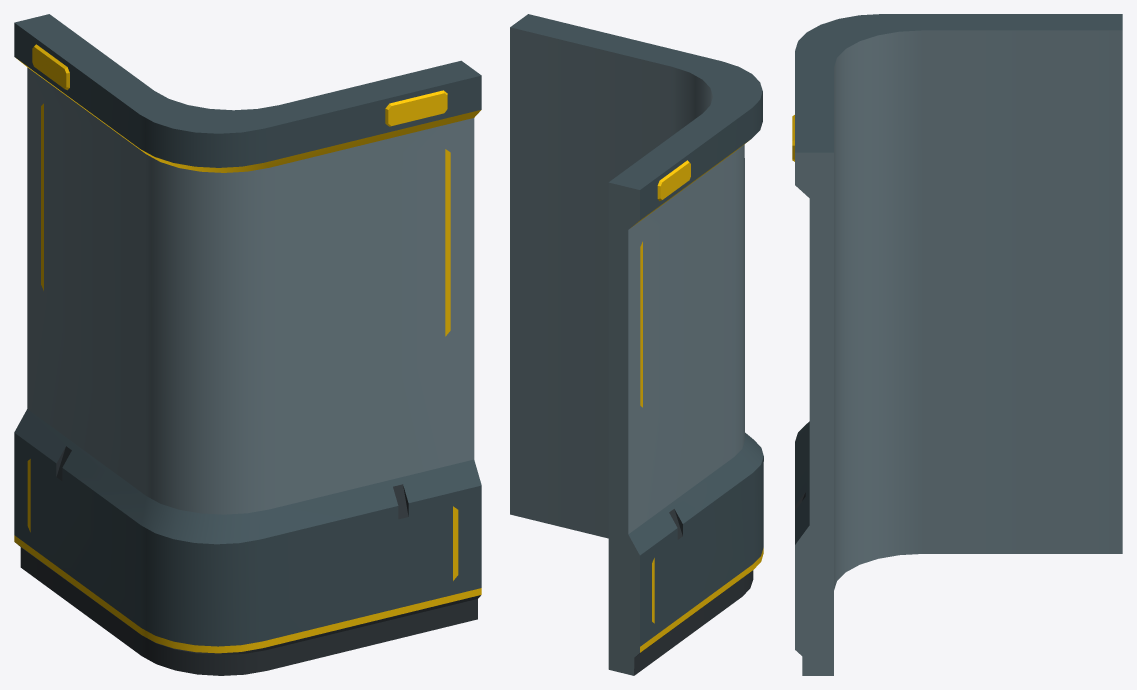
Rendered from Wall_type_C_070.fbx.
3 views of the same model, side by side, from view 1: azimuth 30°, elevation 25°; view 2: azimuth 150°, elevation 25°; view 3: azimuth 270°, elevation 25° (orthographic). The views are drawn at different scales.
Parts seen in each view (by area): view 1: Wall_type_C_070; view 2: Wall_type_C_070; view 3: Wall_type_C_070.
Boxes of the visible parts, x1=… form: Wall_type_C_070: x1=14, y1=14, x2=481, y2=675; Wall_type_C_070: x1=510, y1=14, x2=763, y2=675; Wall_type_C_070: x1=792, y1=14, x2=1122, y2=675.
Bounding box in the file's own units: 229 × 229 × 400.
